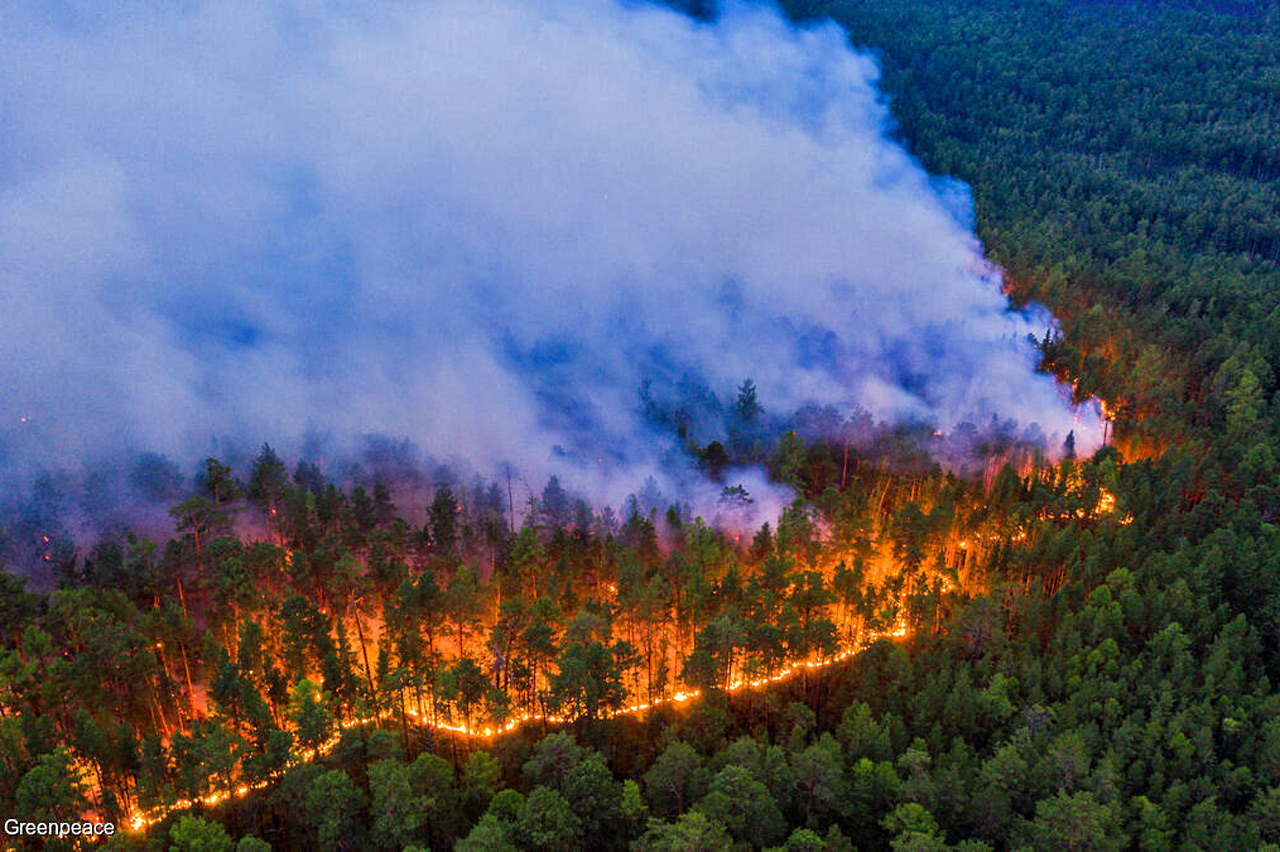fire: (17, 572, 905, 834), (784, 353, 1161, 630)
